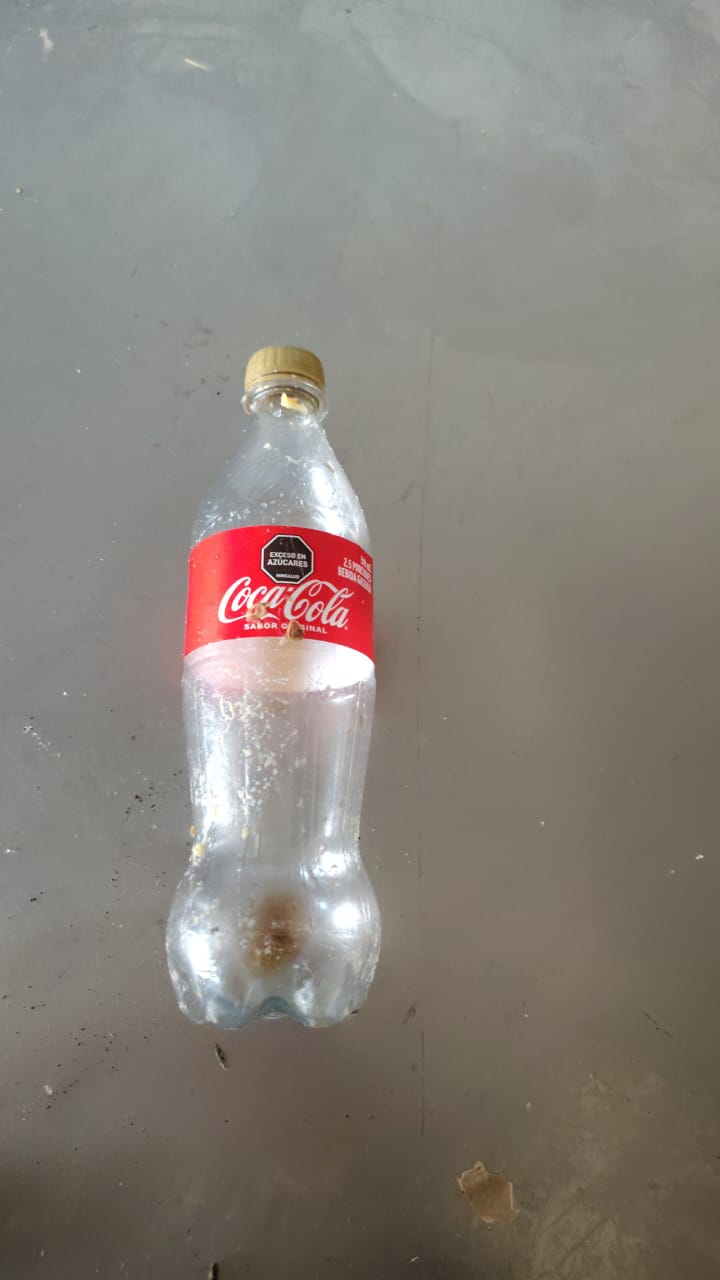Plastico: (166, 346, 384, 1034)
